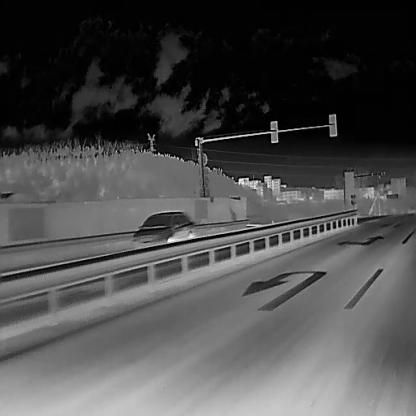car: (131, 210, 196, 250)
